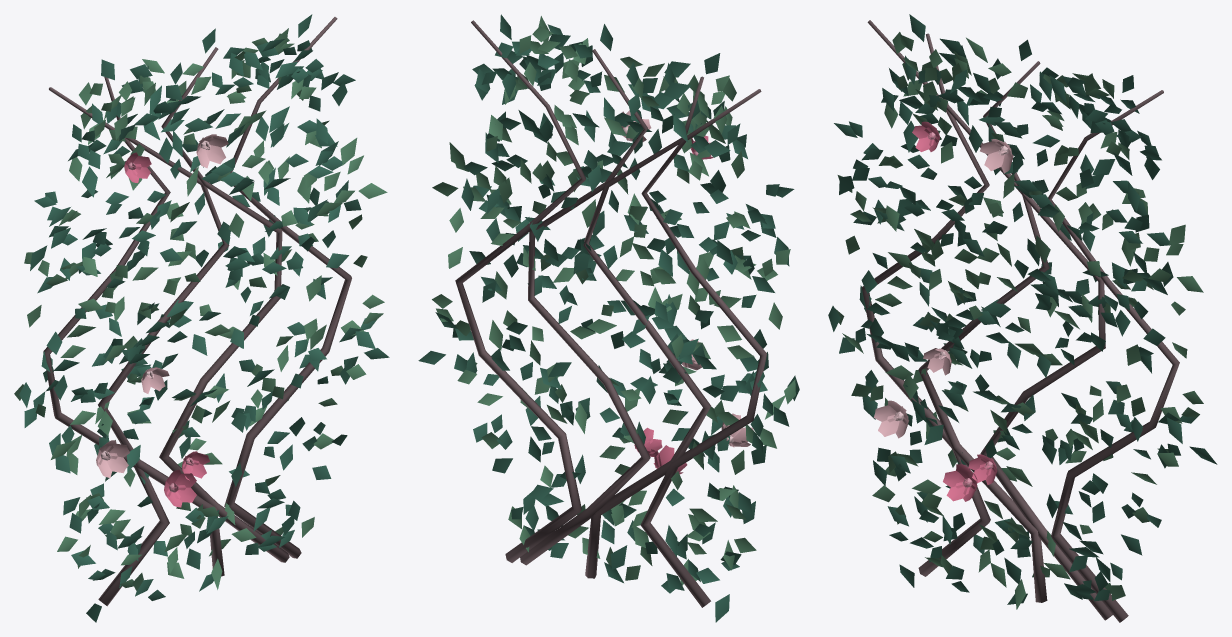
File: facade_ivy.glb
3 renders of one model, left to right at view 1: azimuth 30°, elevation 25°; view 2: azimuth 150°, elevation 25°; view 3: azimuth 330°, elevation 25°, orthographic. The views are drawn at different scales.
Visible parts, largest first — view 1: facade_ivy; view 2: facade_ivy; view 3: facade_ivy.
Boxes of the visible parts, x1=… form: facade_ivy: x1=14, y1=14, x2=389, y2=622; facade_ivy: x1=418, y1=14, x2=799, y2=622; facade_ivy: x1=828, y1=14, x2=1217, y2=622.
Size of what is drawn, in the model's own units: 2.54 by 3.67 by 0.3611.
